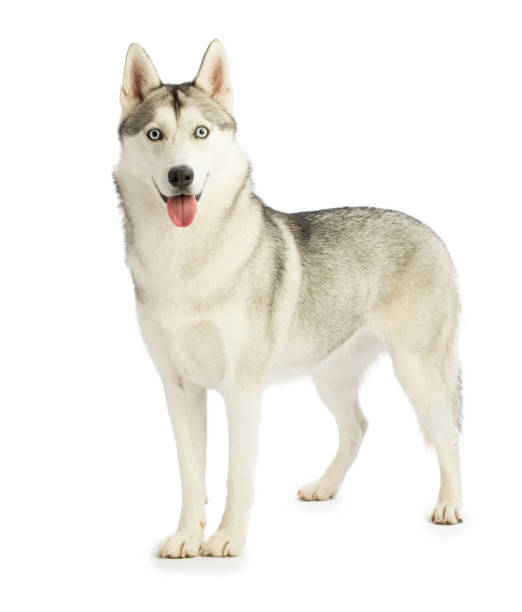husky: (99, 29, 322, 544)
